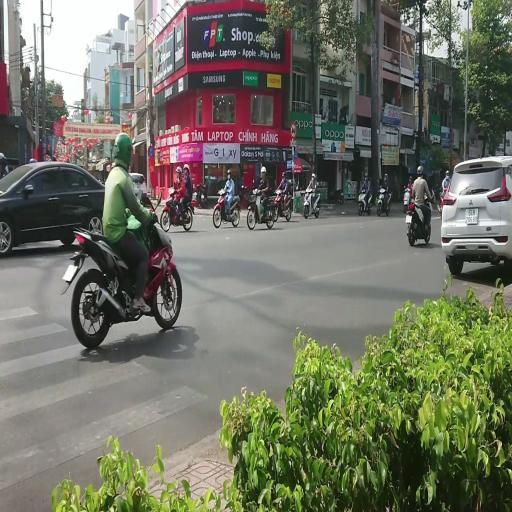bikes: (60, 193, 182, 349), (405, 194, 434, 246), (160, 188, 193, 232), (53, 135, 101, 165), (246, 188, 274, 230), (213, 188, 240, 228), (140, 189, 162, 225), (273, 188, 292, 222), (302, 187, 320, 218), (437, 178, 451, 214), (376, 186, 392, 216), (358, 187, 372, 215), (194, 182, 207, 208), (403, 185, 410, 213), (437, 190, 444, 216), (201, 183, 207, 207), (335, 189, 344, 204), (430, 188, 436, 204)
helmet: (112, 132, 132, 168), (417, 166, 423, 174), (183, 164, 189, 172), (176, 166, 182, 174), (169, 187, 175, 195), (218, 188, 224, 195), (261, 166, 266, 173), (29, 158, 36, 163), (227, 170, 231, 178), (423, 173, 427, 181), (431, 169, 435, 176), (282, 172, 286, 178), (364, 174, 368, 180), (380, 187, 384, 193), (368, 176, 372, 181), (384, 173, 388, 178), (312, 173, 315, 179), (446, 170, 449, 176), (409, 176, 412, 182), (404, 185, 407, 190)
